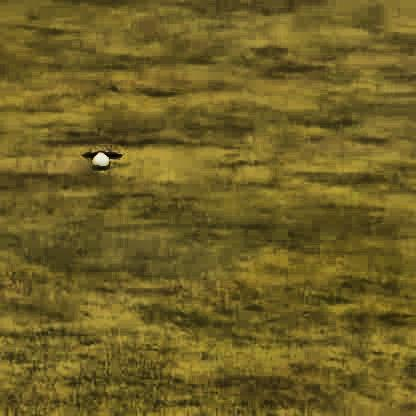golfball: (90, 149, 108, 167)
